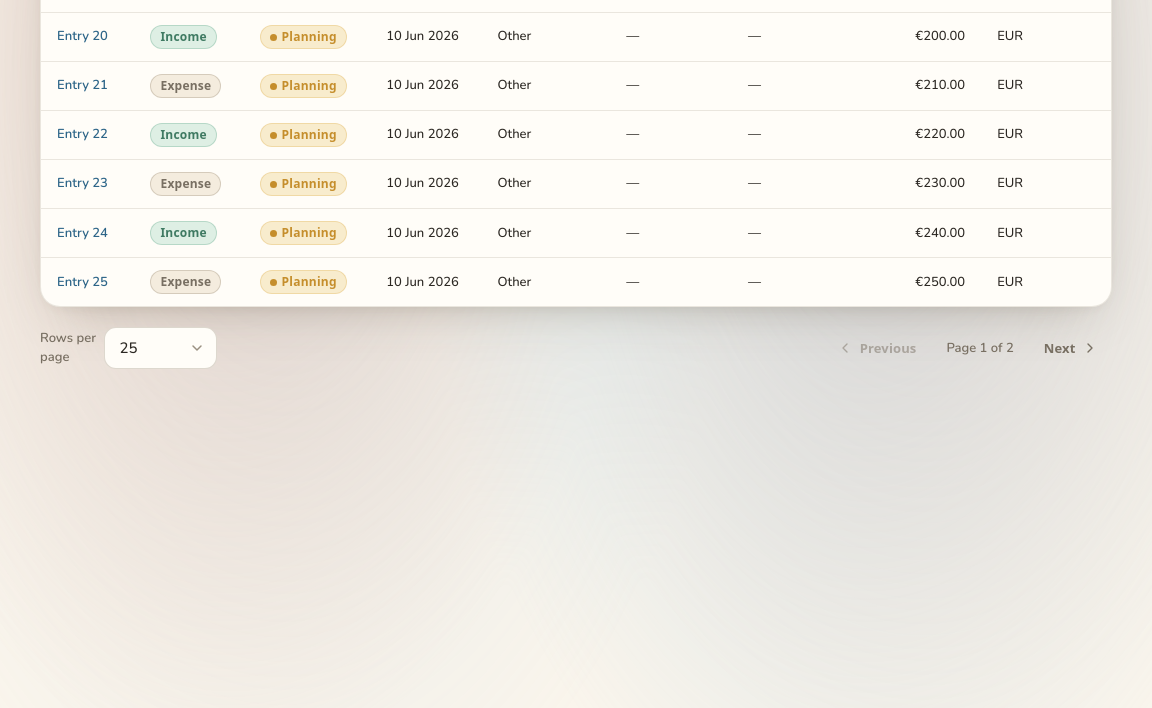
Test: Capex entries table › paginates through the result set
(page scrolled)
Expected: the text "Page 1 of 2" is shown, [946,339,1014,358]
Expected: the text "Entry 26" is not shown
Click the button "Next". click: x=1071, y=348
box: [1030,332,1112,364]
(page scrolled)
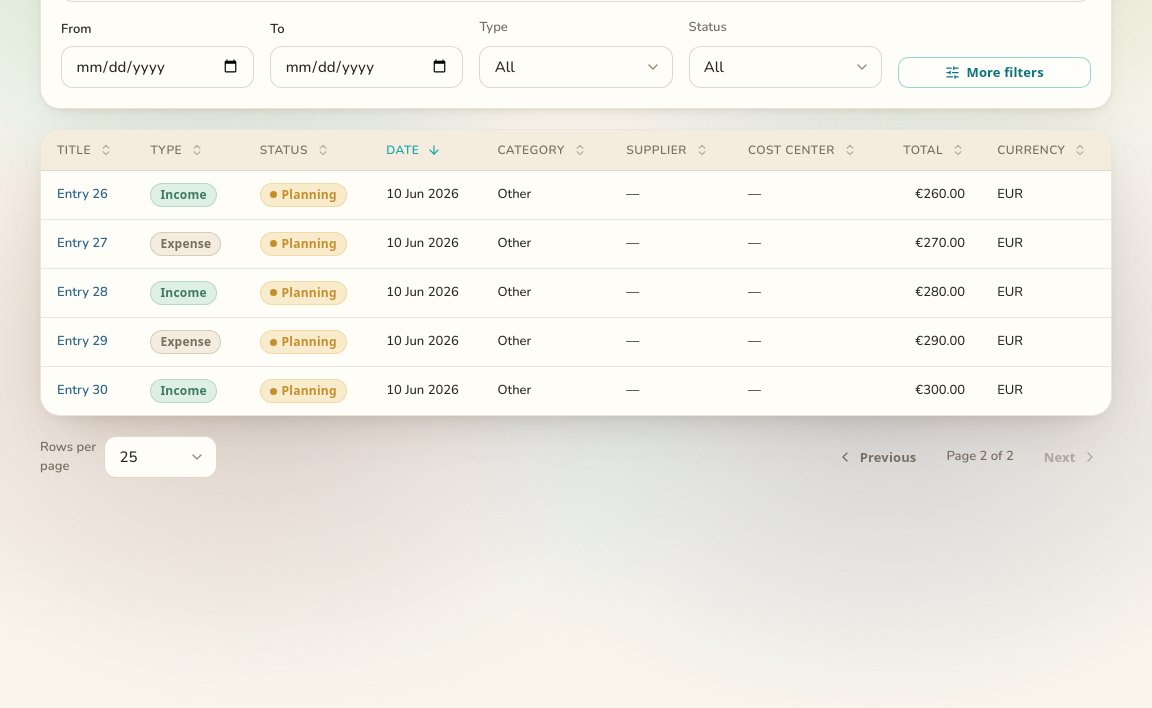
Now the button "Entry 26" is shown, box [57,185,108,205]
Now the text "Page 2 of 2" is shown, box [946,447,1014,467]
